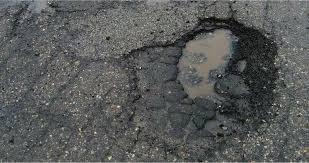pothole: (175, 16, 283, 107)
